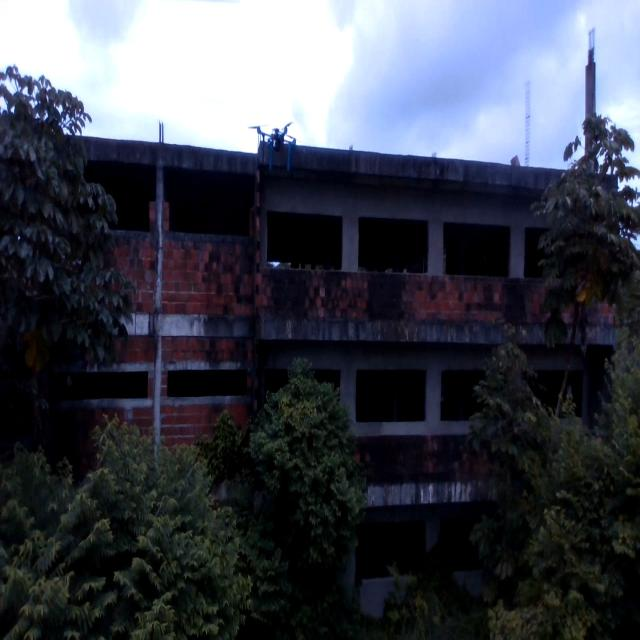-uav-: (242, 114, 316, 181)
